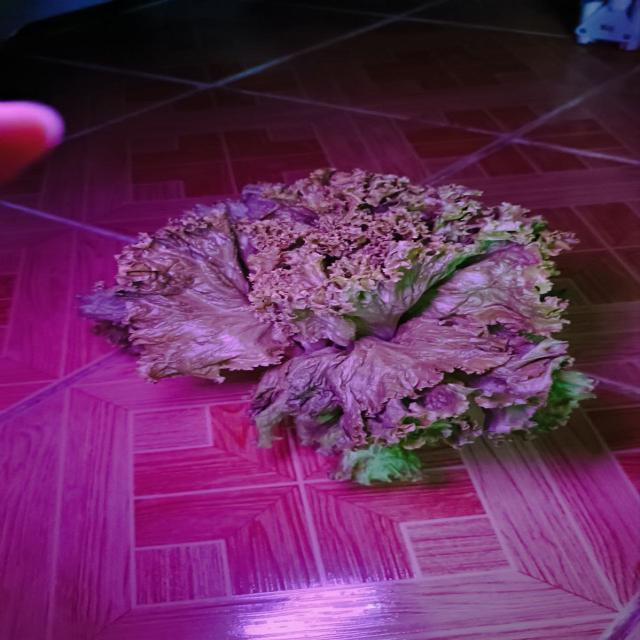Lettuce-Ready-to-Harvest: (90, 171, 585, 491)
